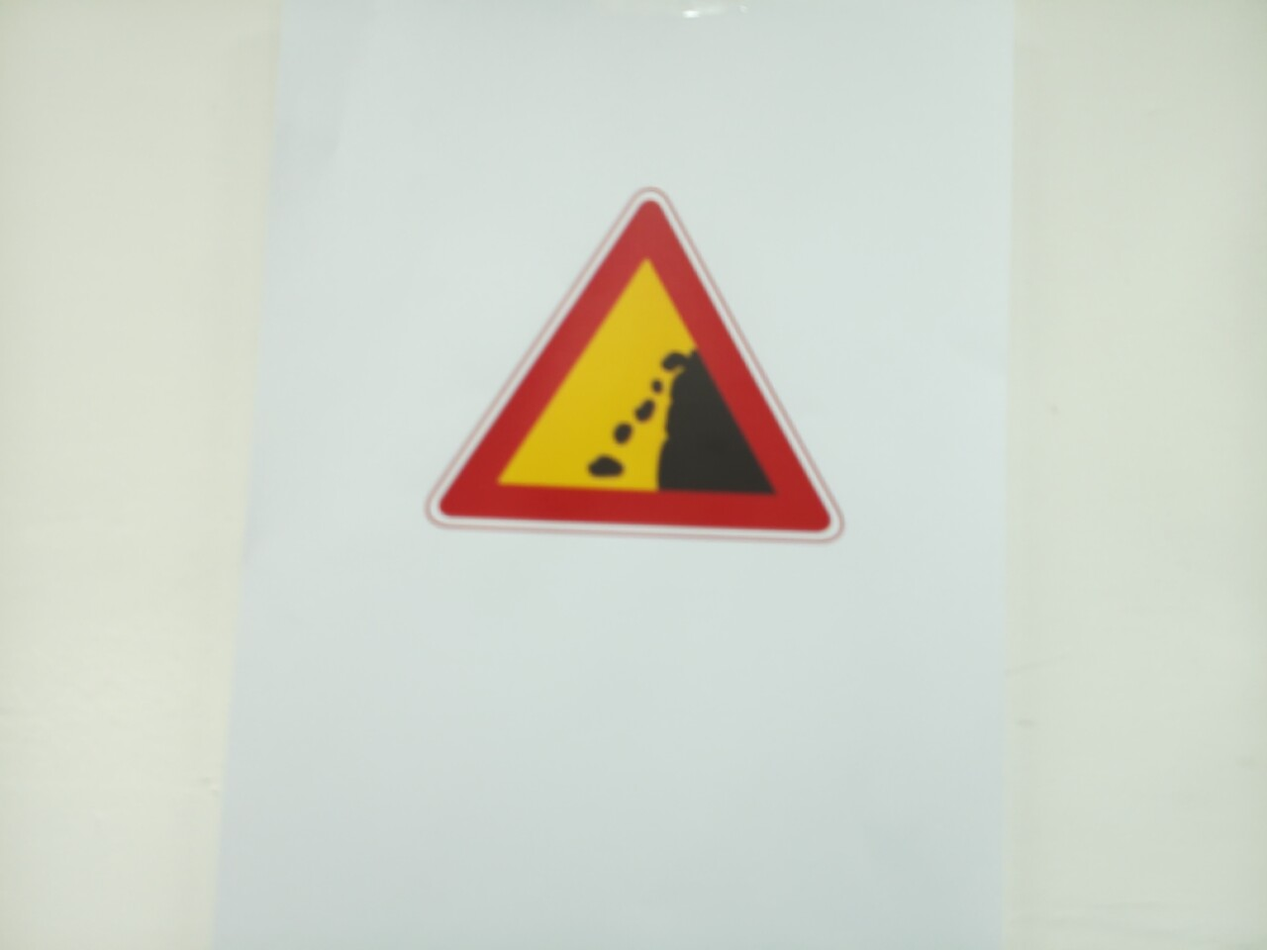falling_rocks: (428, 190, 842, 541)
